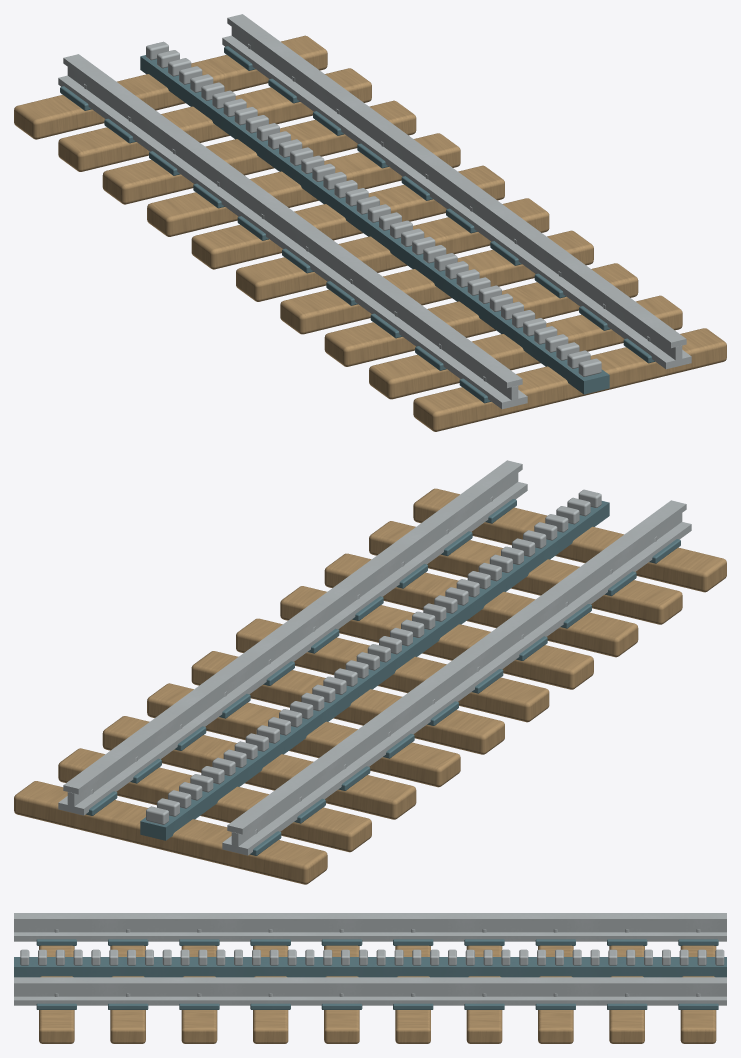
The model's file is gorgehold-survivor-gallery-and-operations-rack-rail-le-1456c6f3__32895.glb.
The picture shows the model from 3 angles, top to bottom: view 1: azimuth 30°, elevation 25°; view 2: azimuth 150°, elevation 25°; view 3: azimuth 270°, elevation 25°; orthographic projection. The views are drawn at different scales.
Parts seen in each view (by area): view 1: rack-rail-level-siding-configuration; view 2: rack-rail-level-siding-configuration; view 3: rack-rail-level-siding-configuration.
Boxes of the visible parts, box(x1,y1,x2,y2) form: rack-rail-level-siding-configuration: box(14, 14, 726, 431); rack-rail-level-siding-configuration: box(14, 460, 726, 884); rack-rail-level-siding-configuration: box(14, 913, 726, 1043).
Size of the model in its own units: 1.15 by 0.182 by 3.
3 materials, 3 textured.
